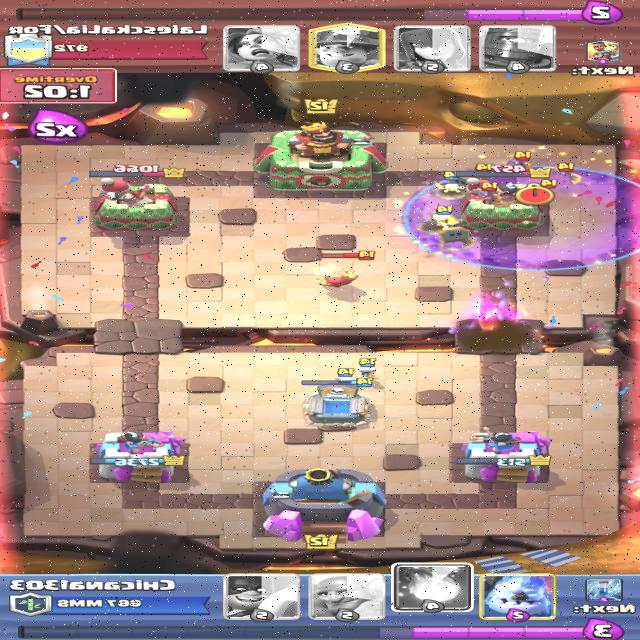Enemy-Bat: (543, 163, 582, 184), (468, 182, 499, 202), (506, 151, 531, 171)
Enemy-Wizard: (314, 250, 377, 289)
Player-Graveyard: (401, 165, 640, 270)
Player-Skeleton: (433, 205, 458, 230), (436, 170, 463, 192), (358, 357, 377, 382), (335, 368, 355, 388)
Player-Tombstone: (300, 377, 374, 429)
